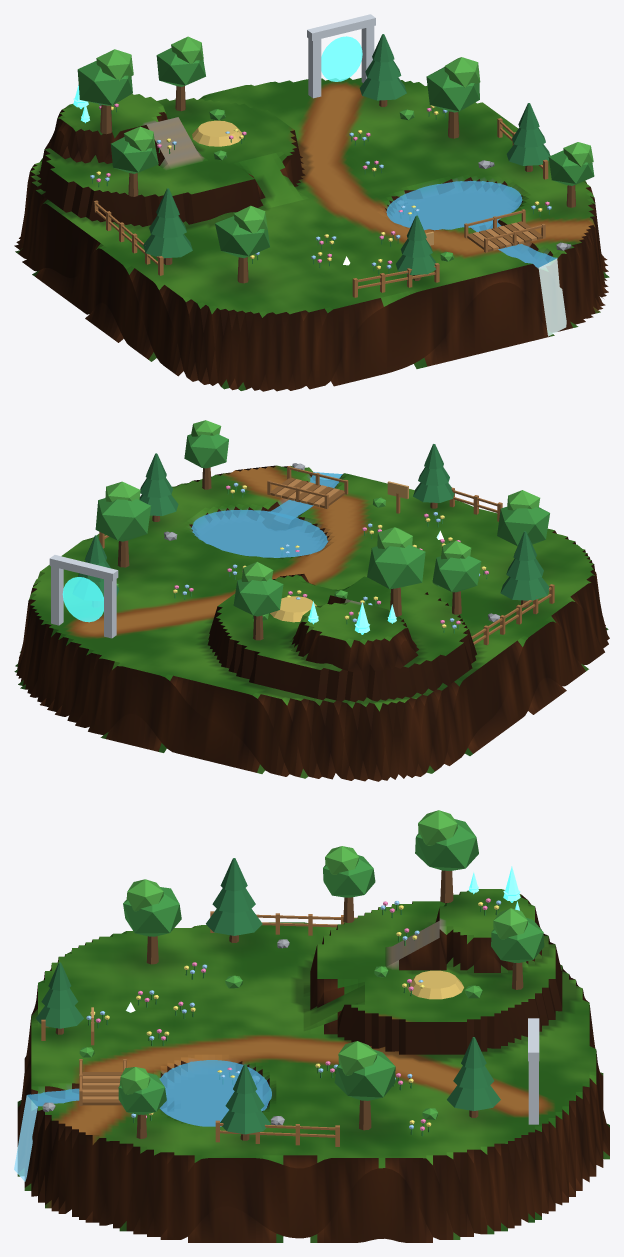
3 renders of one model, top to bottom at view 1: azimuth 30°, elevation 25°; view 2: azimuth 150°, elevation 25°; view 3: azimuth 270°, elevation 25°, orthographic. The views are drawn at different scales.
Parts seen in each view (by area): view 1: terrain, pond_water, tree_crown_0, tree_crown_3, gate_ring, tree_crown_4, stream_fall, tree_crown_1, tree_crown_2, tree_crown_5, nest, pine_cone_6_0 (+16 smaller); view 2: terrain, pond_water, tree_crown_0, tree_crown_3, tree_crown_4, tree_crown_1, gate_ring, tree_crown_2, tree_crown_5, pine_cone_6_0, gate_lintel, nest (+11 smaller); view 3: terrain, pond_water, tree_crown_0, tree_crown_3, tree_crown_4, tree_crown_1, tree_crown_2, nest, tree_crown_5, pine_cone_6_0, stream_fall, tree_top_0 (+14 smaller).
Part boxes in pixels (x1,y1,x2,y2): terrain: (14,77,609,391); pond_water: (386,180,522,230); tree_crown_0: (77,61,132,105); tree_crown_3: (426,67,479,112); gate_ring: (321,36,362,81); tree_crown_4: (215,216,269,258); stream_fall: (538,258,566,336); tree_crown_1: (156,48,205,86); tree_crown_2: (110,137,158,173); tree_crown_5: (548,150,594,185); nest: (192,120,242,146); pine_cone_6_0: (143,234,192,258); terrain: (14,465,609,781); pond_water: (191,509,328,557); tree_crown_0: (367,545,425,588); tree_crown_3: (95,498,150,541); tree_crown_4: (497,507,549,545); tree_crown_1: (233,578,283,616); gate_ring: (62,577,103,622); tree_crown_2: (432,556,481,592); tree_crown_5: (184,434,228,468); pine_cone_6_0: (500,576,549,600); gate_lintel: (49,555,118,581); nest: (270,596,316,622); terrain: (17,889,609,1242); pond_water: (159,1060,271,1126); tree_crown_0: (415,819,478,870); tree_crown_3: (334,1049,395,1100); tree_crown_4: (123,887,181,936); tree_crown_1: (491,918,544,962); tree_crown_2: (323,855,375,897); nest: (407,970,463,999); tree_crown_5: (118,1073,166,1114); pine_cone_6_0: (206,909,262,935); stream_fall: (14,1095,37,1181); tree_top_0: (418,810,457,845).
Bounding box in the file's own units: 21.5 × 9.36 × 21.89.
